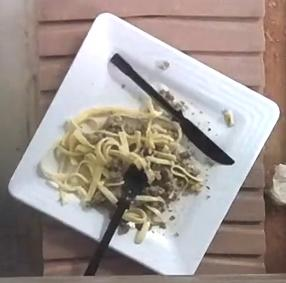pasta: (39, 102, 202, 242)
